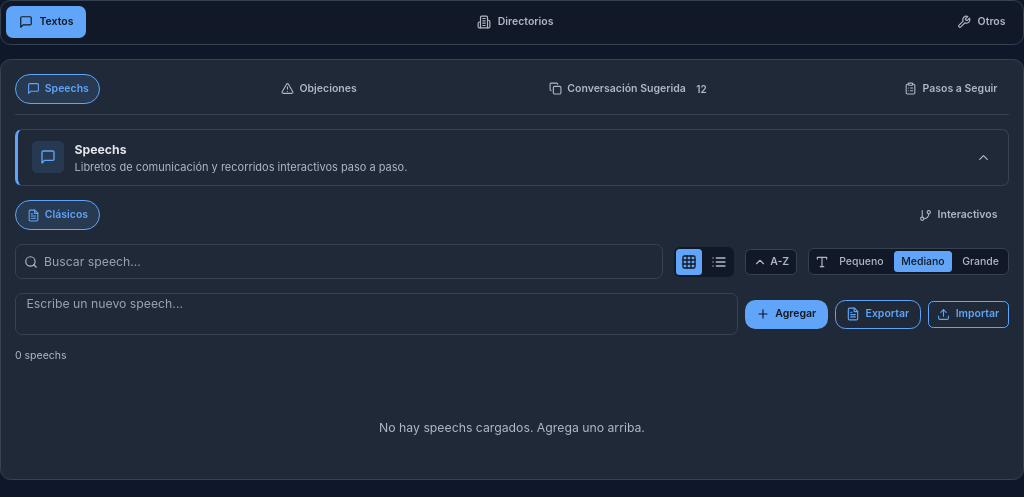
UtilesView (navegación por grupos) › clic en una sub-sección del grupo cambia a esa sección
This screenshot has width=1024, height=497.
Click the button "Otros". click: (981, 22)
box: [944,6,1018,38]
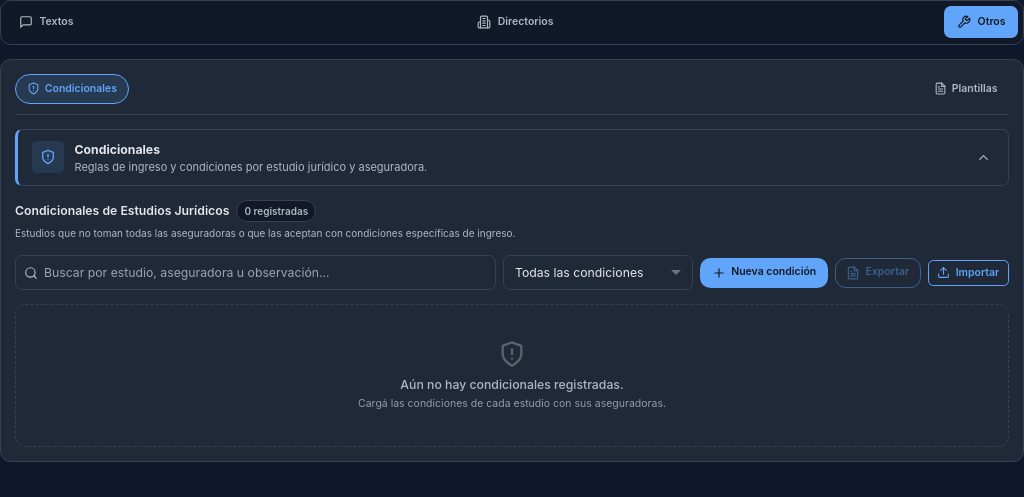
Click the button "Plantillas". click: (966, 88)
box: [922,74,1009,104]
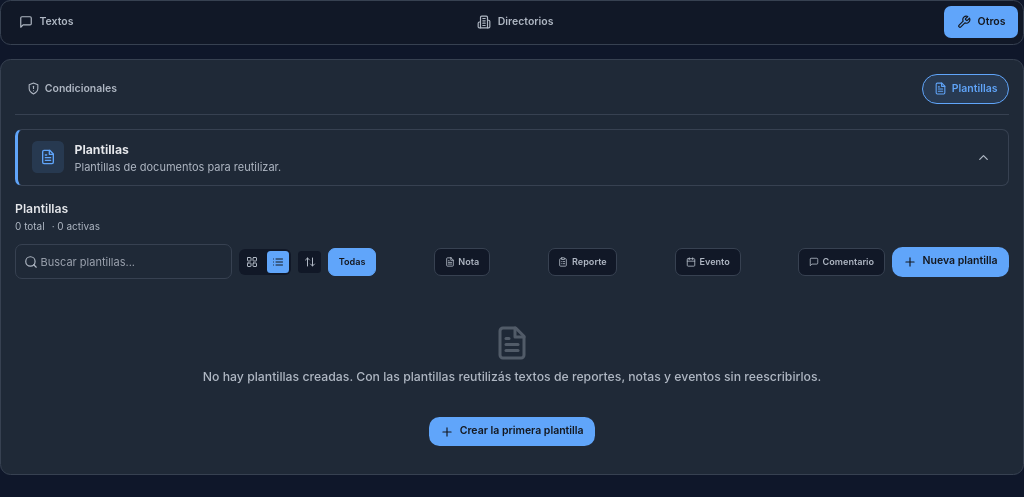
Expected: the text "Plantillas de documentos para reutilizar." is shown, [74,160,281,174]
